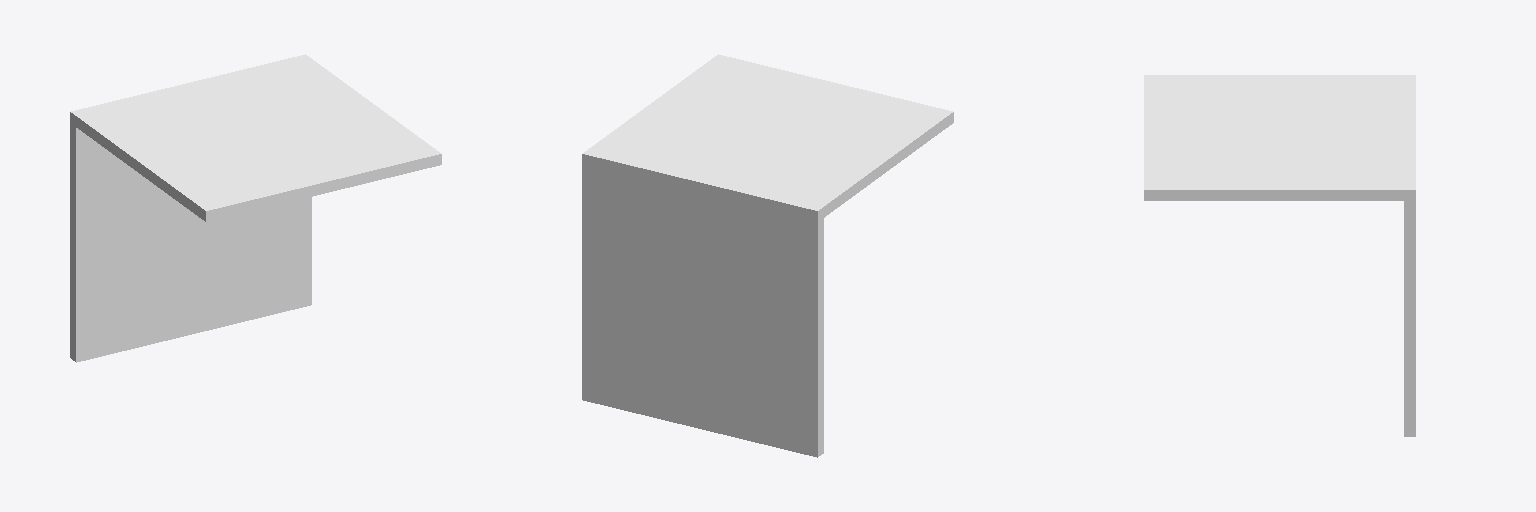
The model's file is mesh_hanger_ceiling_straight.obj.
The picture shows the model from 3 angles: view 1: azimuth 30°, elevation 25°; view 2: azimuth 150°, elevation 25°; view 3: azimuth 270°, elevation 25°; orthographic projection.
Parts seen in each view (by area): view 1: object 1; view 2: object 1; view 3: object 1.
Part boxes in pixels (x1,y1,x2,y2): object 1: (70,54,441,362); object 1: (582,54,953,457); object 1: (1144,75,1415,436).
Size of the model in its own units: 4.4 by 4.4 by 4.4.